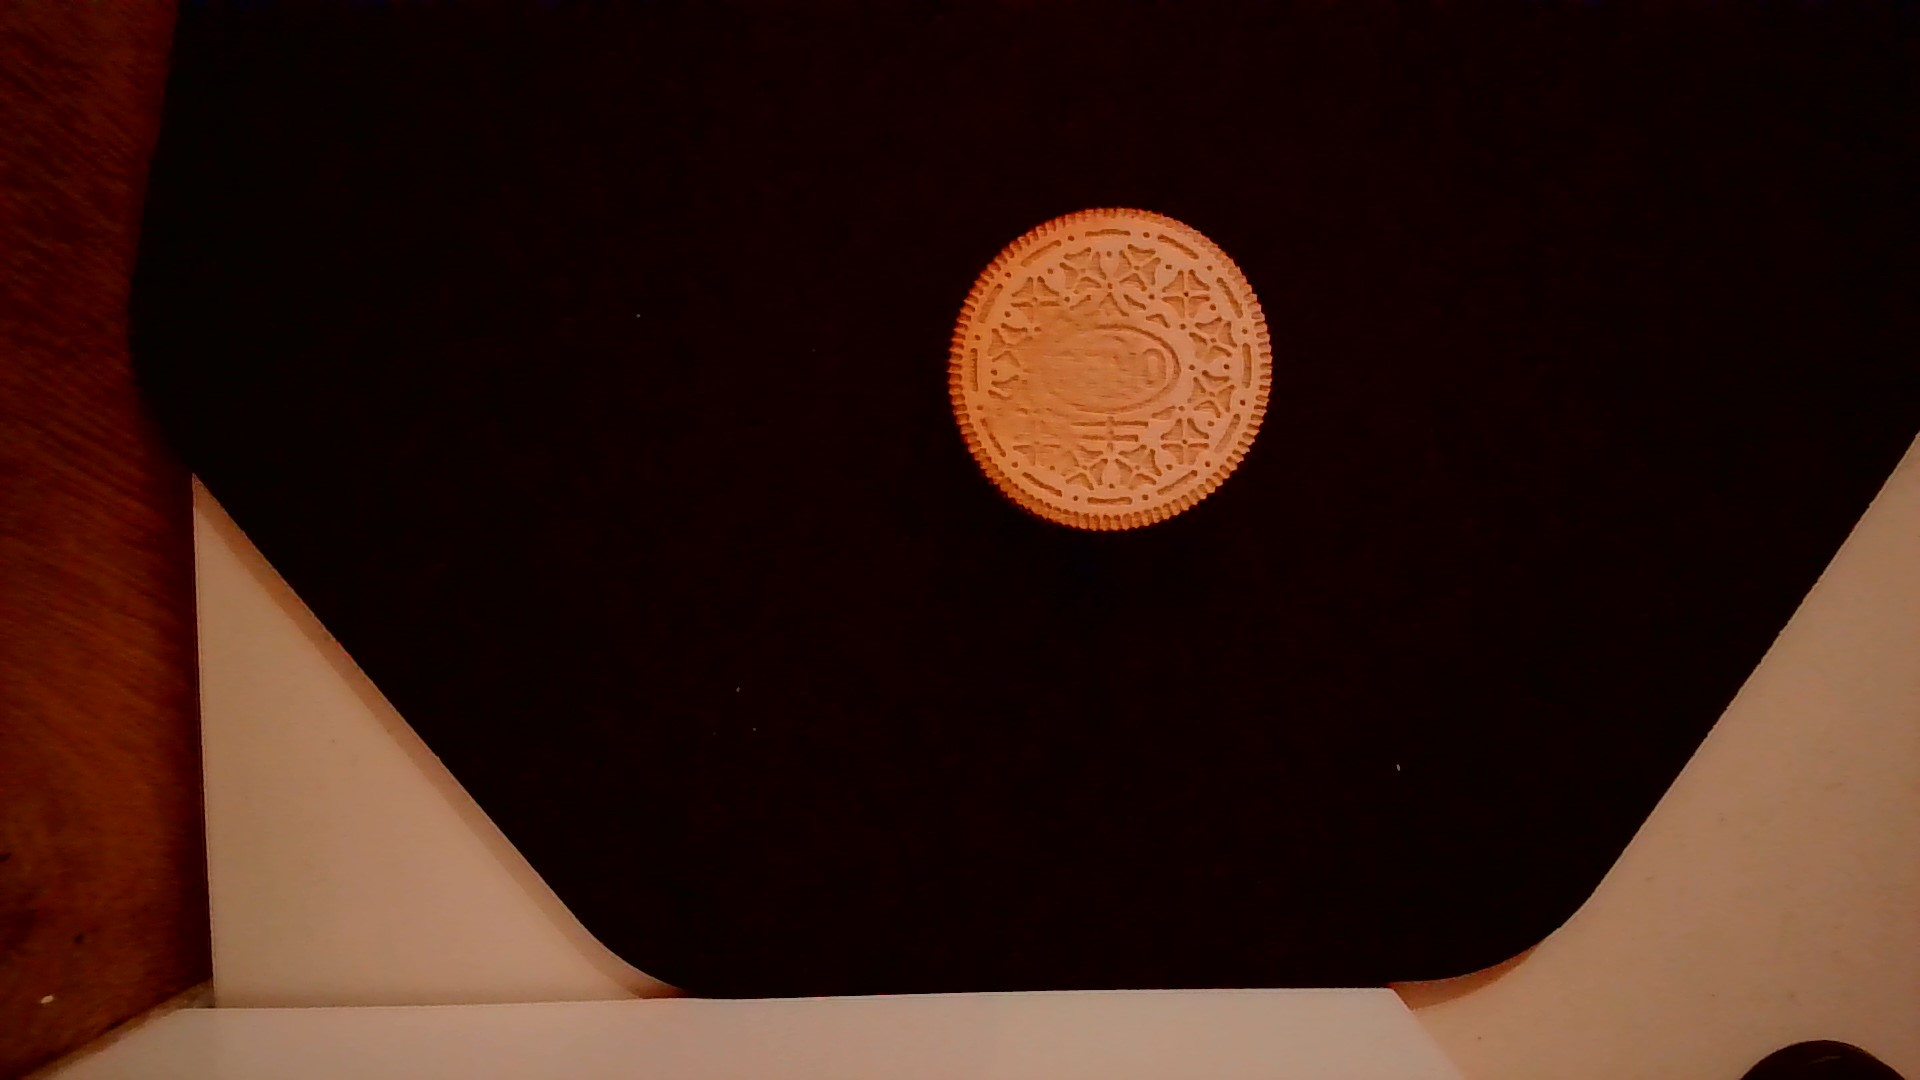Effacé: (1021, 305, 1118, 440)
Oréo: (939, 200, 1280, 542)
